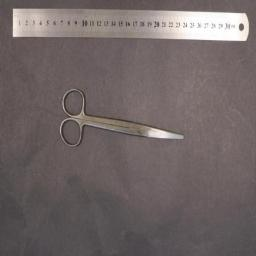Curved Mayo Scissors: (59, 88, 183, 148)
